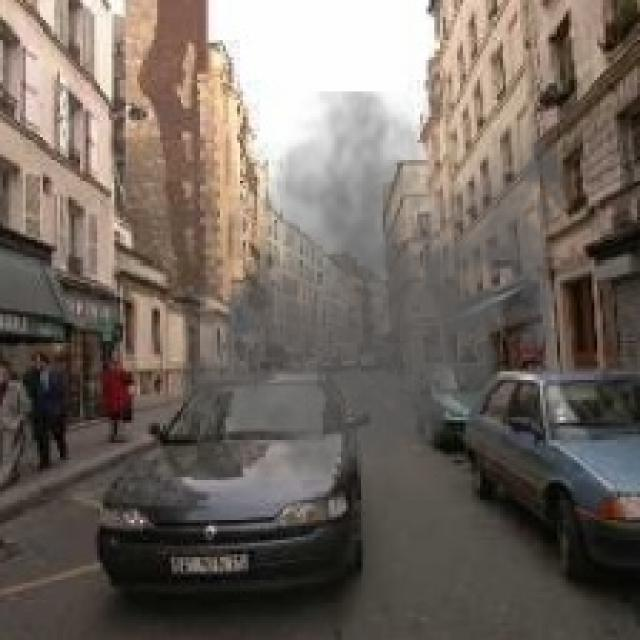Smoke: (168, 91, 583, 512)
